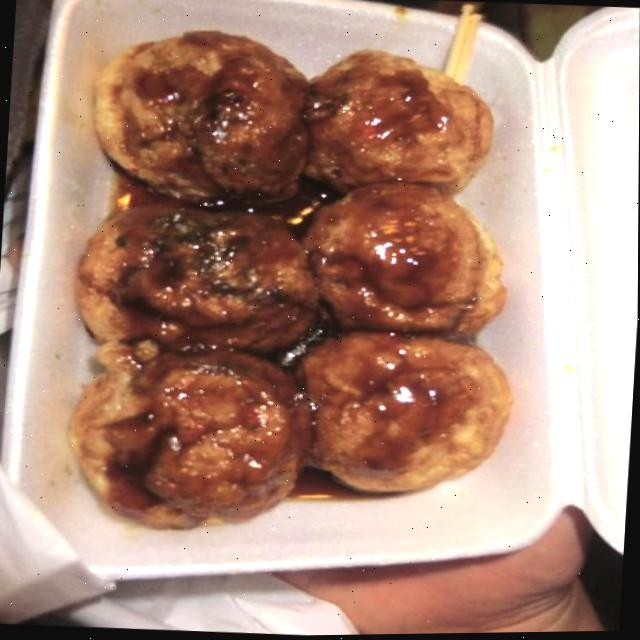炸货点心: (15, 0, 585, 600)
